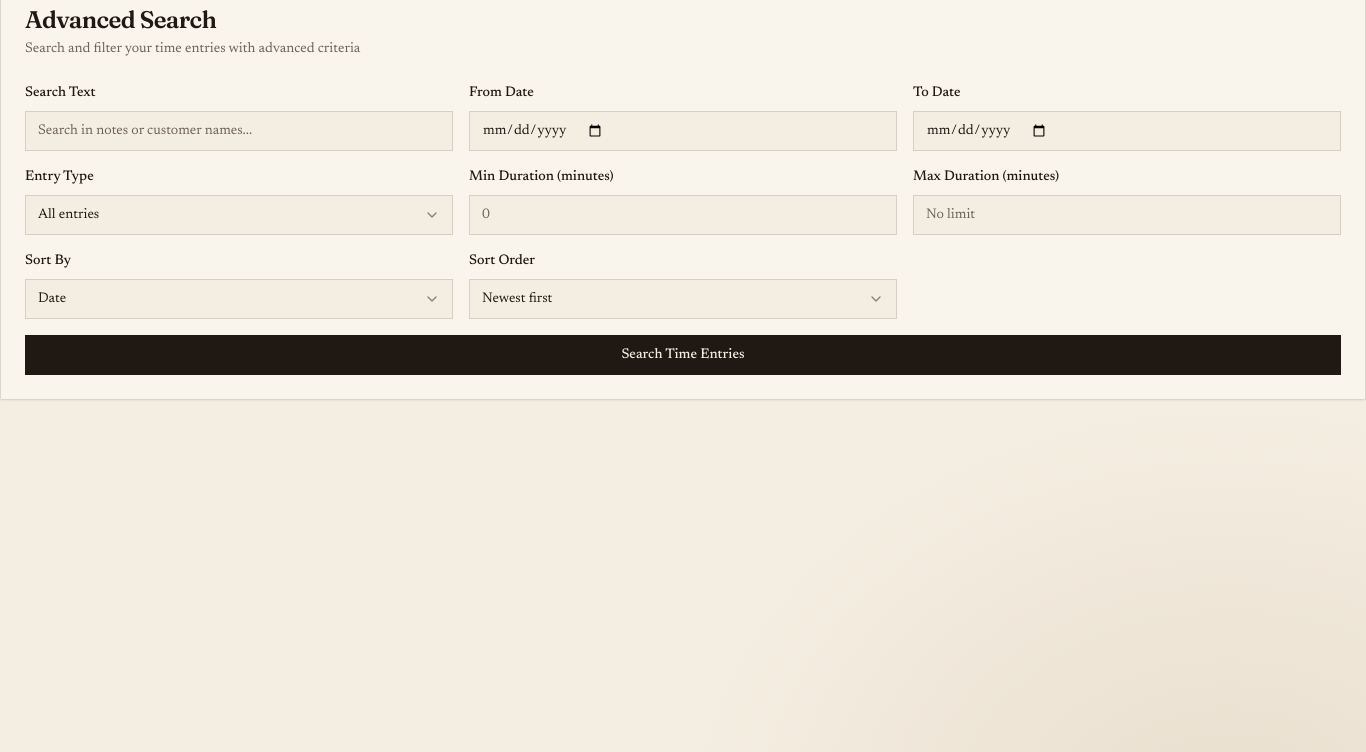
Test: AdvancedSearch Component › handles pagination when multiple pages exist
The image size is (1366, 752).
Step 1. Click the button "Search Time Entries" → (683, 355), box [25,335,1341,375]
(page scrolled)
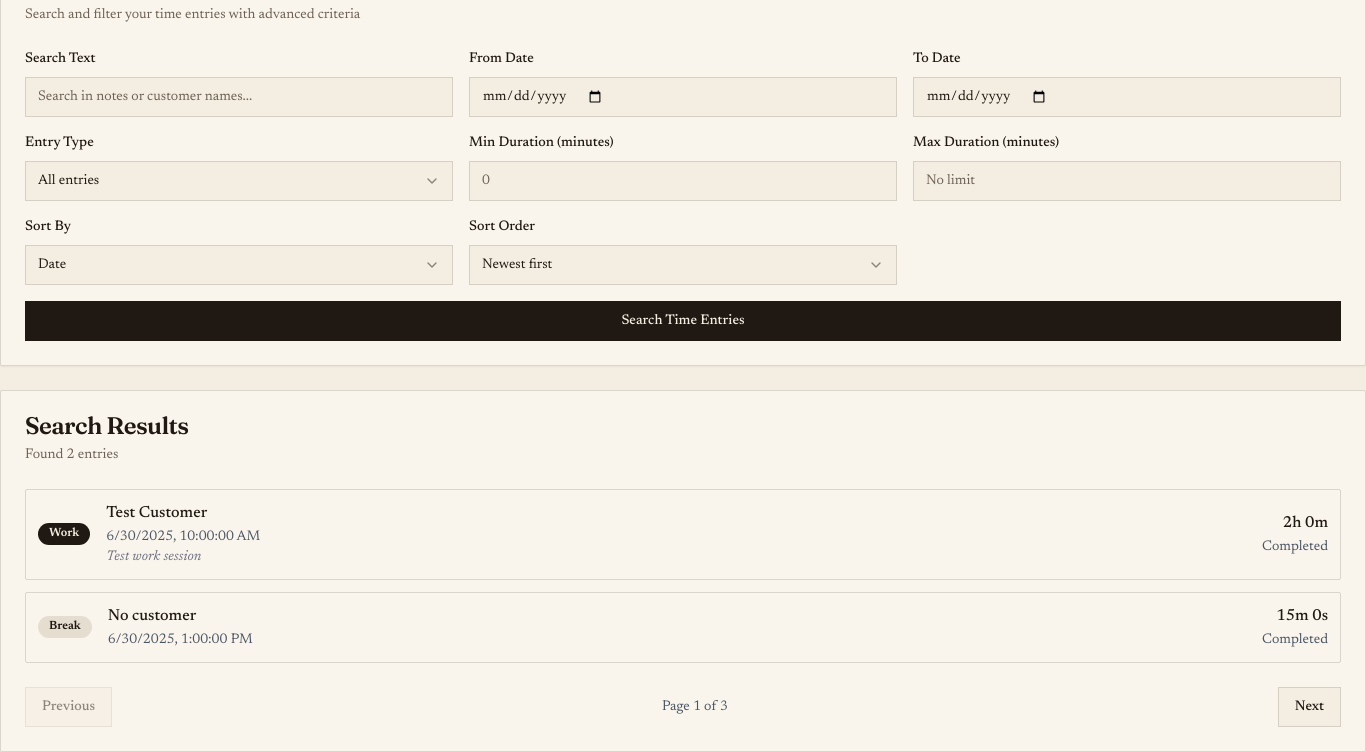
Check: the text "Page 1 of 3" is shown, box [662,697,728,717]
Check: the button "Next" is shown, box [1278,687,1341,727]
Check: the button "Previous" is shown, box [25,687,112,727]
